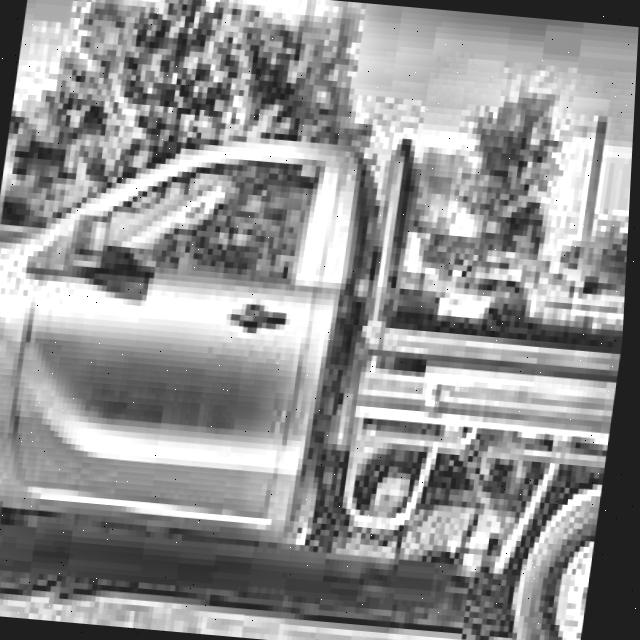light_vehicle: (0, 81, 637, 640)
